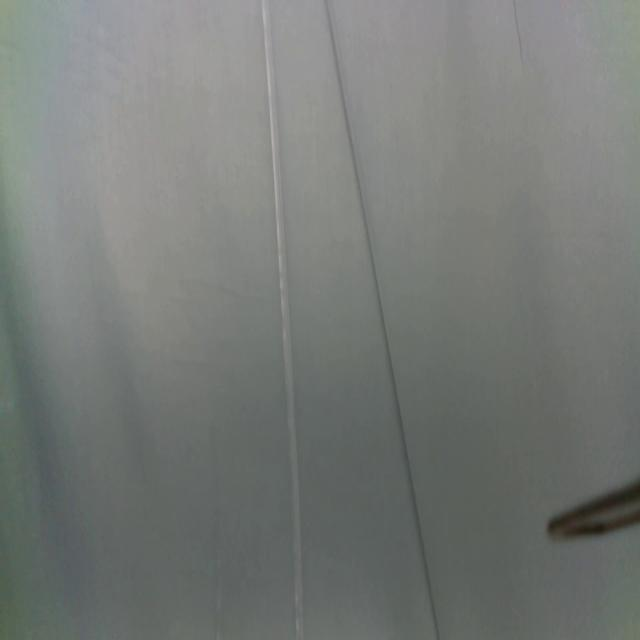crease: (325, 0, 437, 638), (260, 0, 305, 640), (511, 0, 527, 75)
